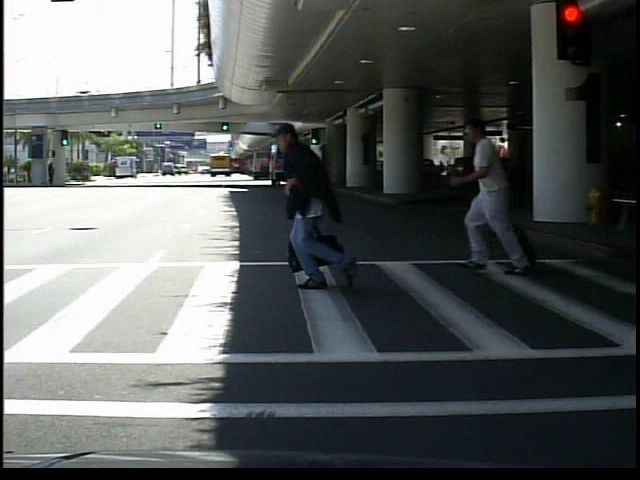person: (274, 116, 359, 293), (464, 112, 530, 273)
